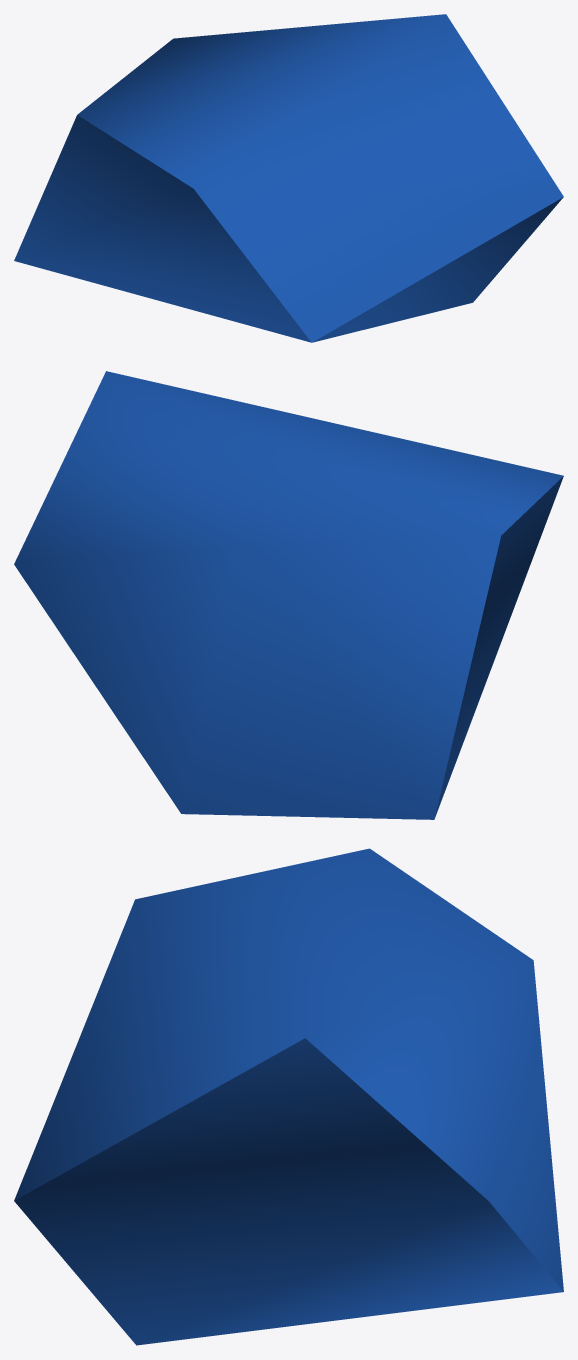
3 views of the same model, one above another, from view 1: azimuth 30°, elevation 25°; view 2: azimuth 150°, elevation 25°; view 3: azimuth 270°, elevation 25° (orthographic). The views are drawn at different scales.
Parts seen in each view (by area): view 1: stone_001; view 2: stone_001; view 3: stone_001.
Part boxes in pixels (x1,y1,x2,y2): stone_001: (14, 14, 563, 342); stone_001: (14, 371, 563, 819); stone_001: (14, 848, 563, 1345).
Bounding box in the file's own units: 38.03 × 25.65 × 35.61.
